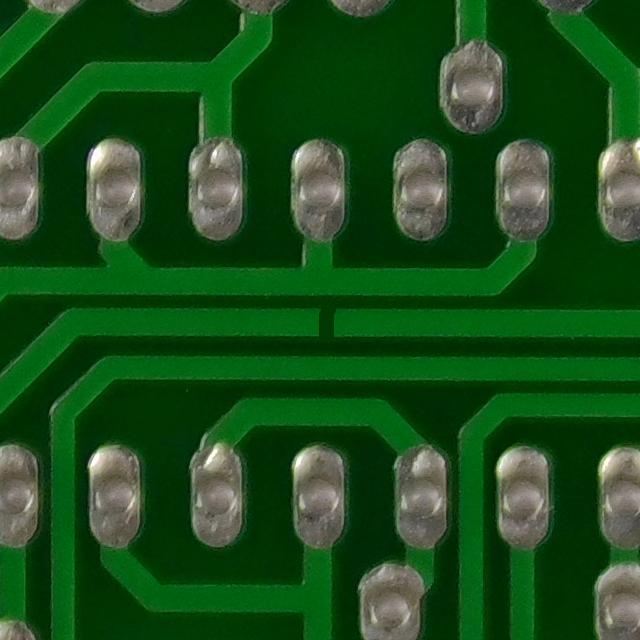open_circuit: (292, 293, 348, 347)
